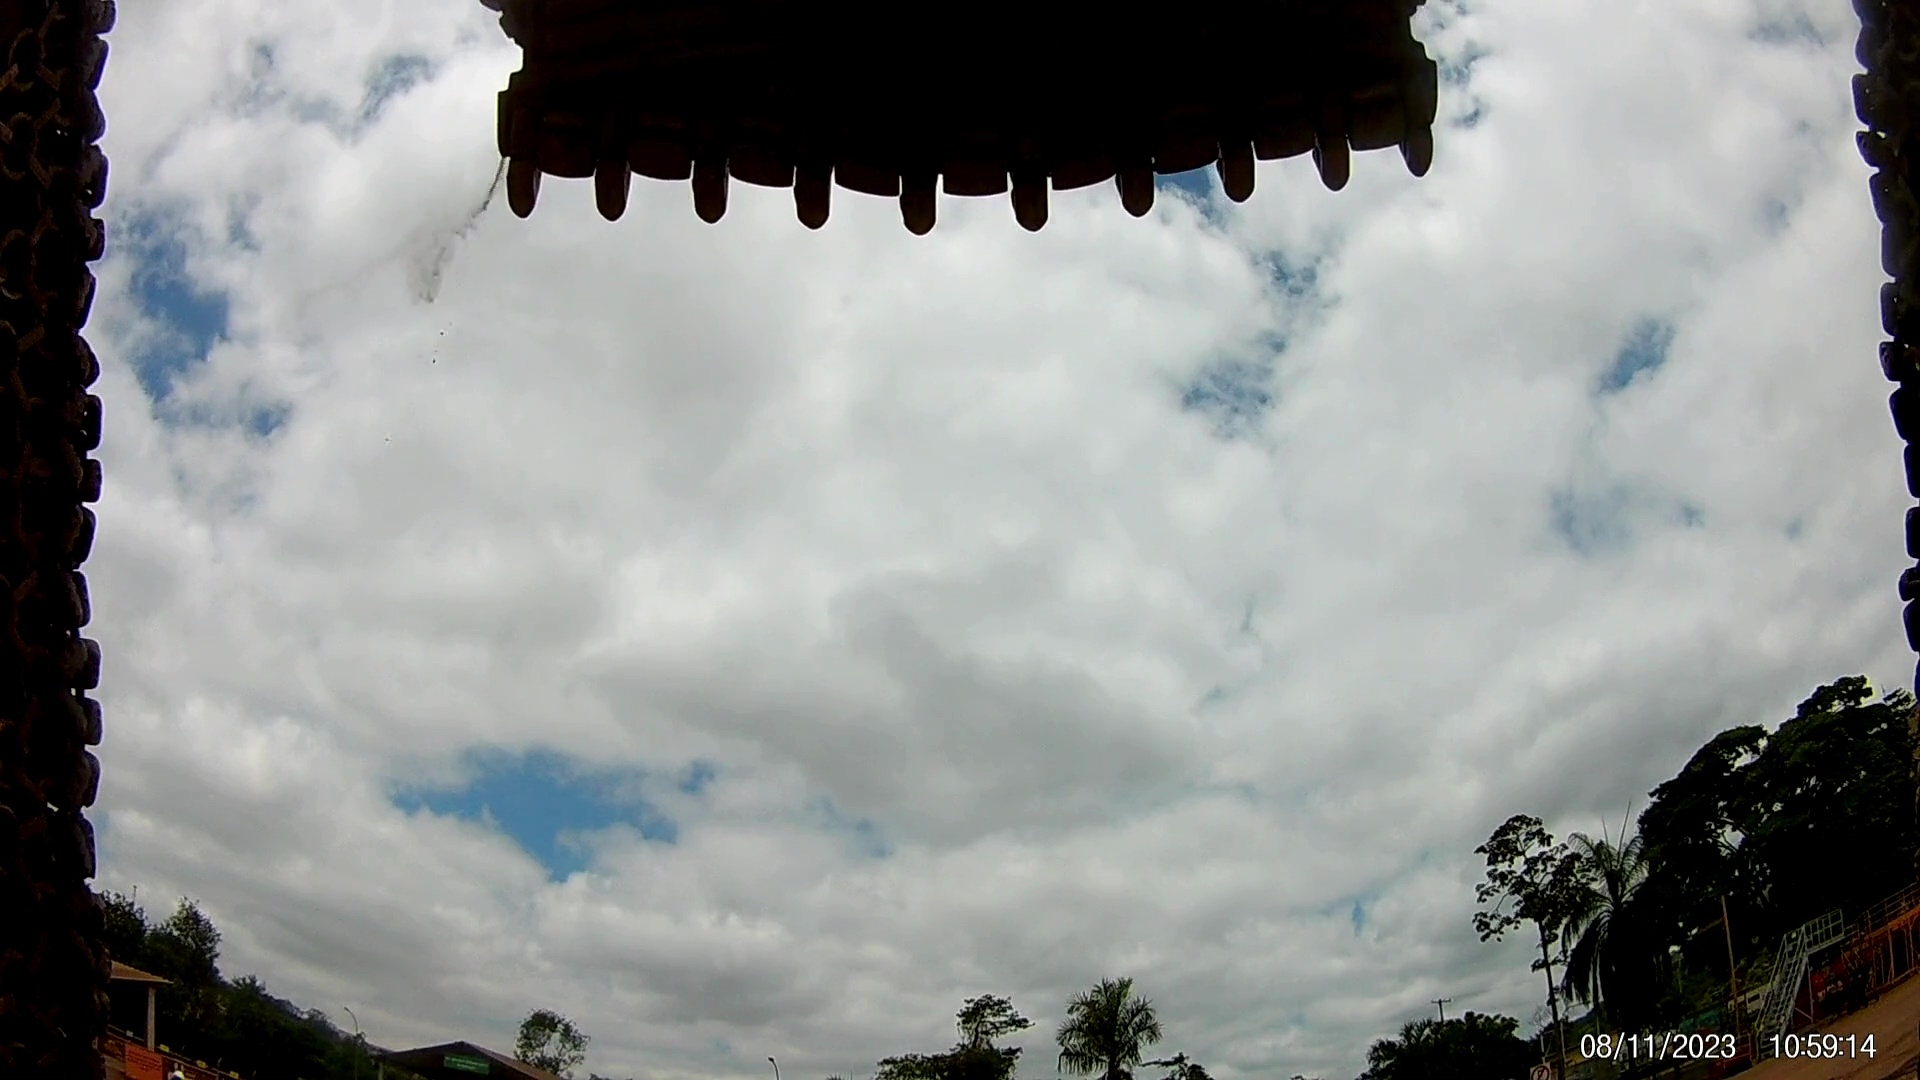FPS: (1065, 293, 1201, 393), (1106, 109, 1254, 179), (1018, 688, 1145, 762), (1036, 767, 1135, 855), (1048, 415, 1170, 481), (1048, 916, 1145, 984), (1047, 502, 1137, 574), (1085, 215, 1211, 262), (1042, 848, 1131, 910), (1025, 607, 1127, 655)
